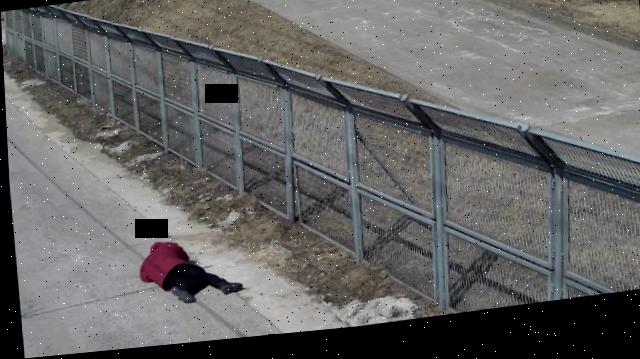fall: (132, 235, 243, 313)
